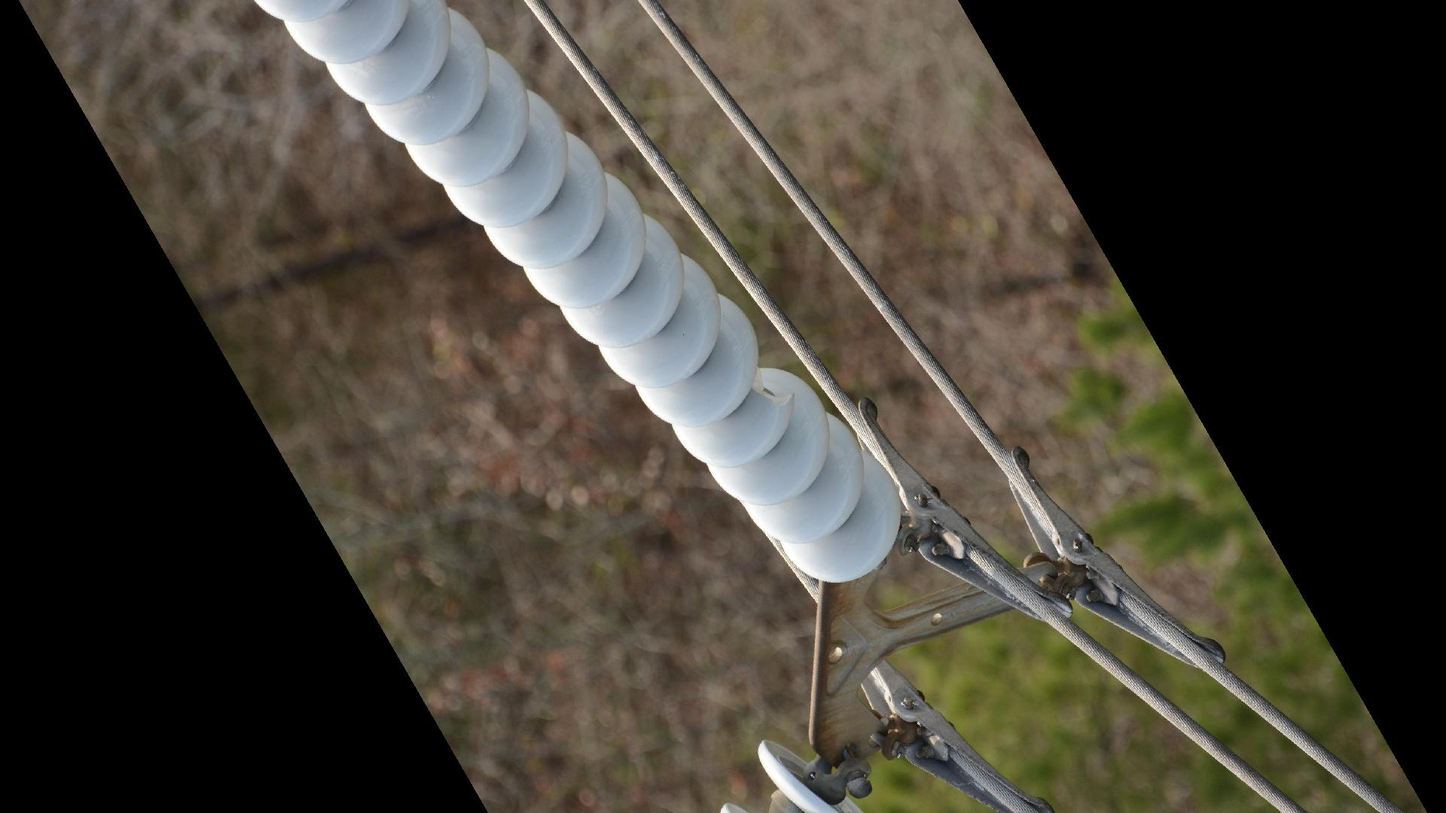insulator: (250, 1, 909, 595), (731, 728, 862, 813)
insulator_breakage: (742, 360, 804, 416)
